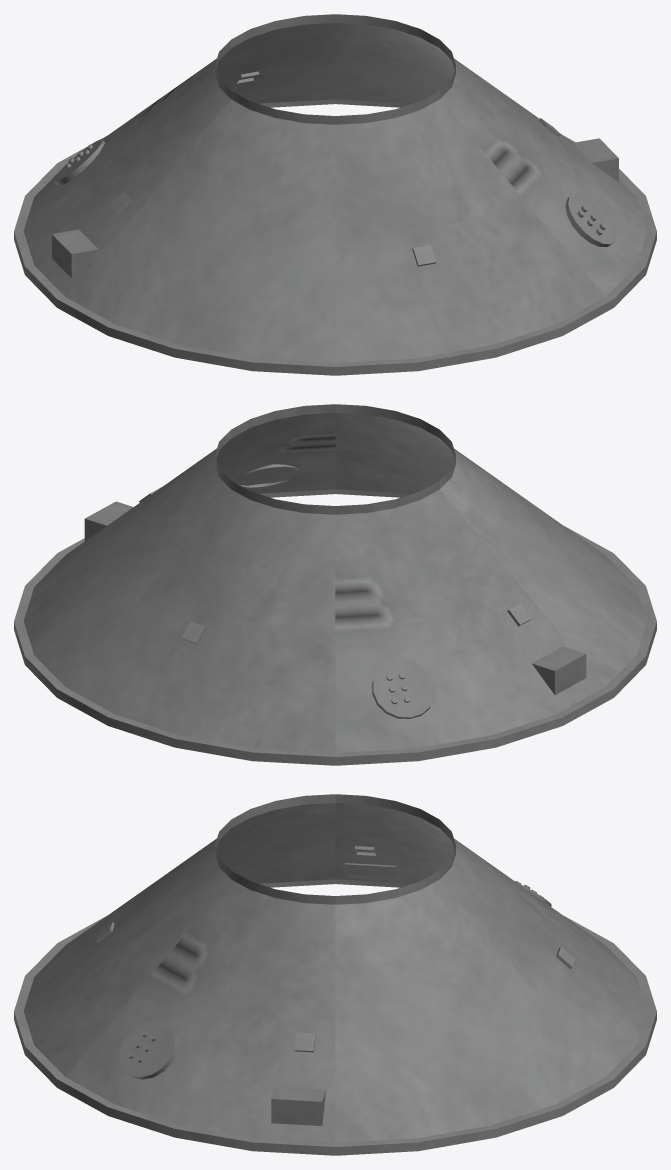
The model's file is big narrow adapter_naked.obj.
3 views of the same model, one above another, from view 1: azimuth 30°, elevation 25°; view 2: azimuth 150°, elevation 25°; view 3: azimuth 270°, elevation 25° (orthographic).
Visible parts, largest first — view 1: 1; view 2: 1; view 3: 1.
Boxes of the visible parts, left/top/right/bottom form: 1: left=14, top=14, right=656, bottom=375; 1: left=14, top=404, right=656, bottom=765; 1: left=14, top=794, right=656, bottom=1155.
Bounding box in the file's own units: 2.5 × 0.75 × 2.5.
